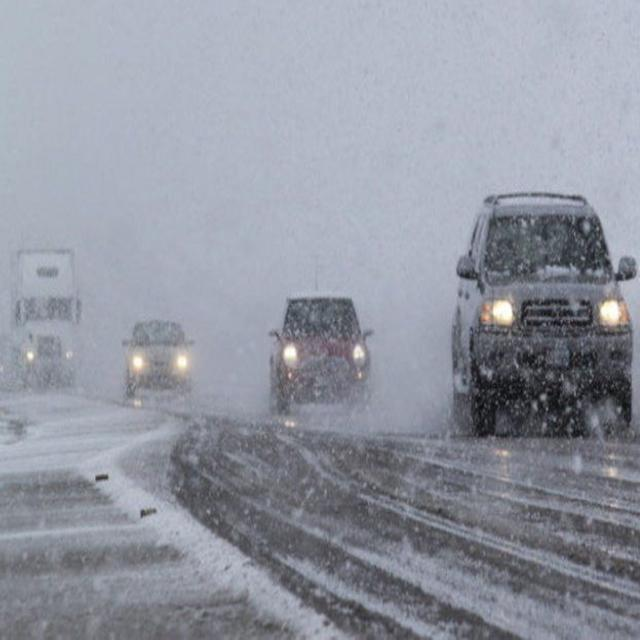bus: (8, 245, 82, 388)
car: (451, 196, 637, 440), (268, 294, 372, 418), (123, 319, 193, 401)
